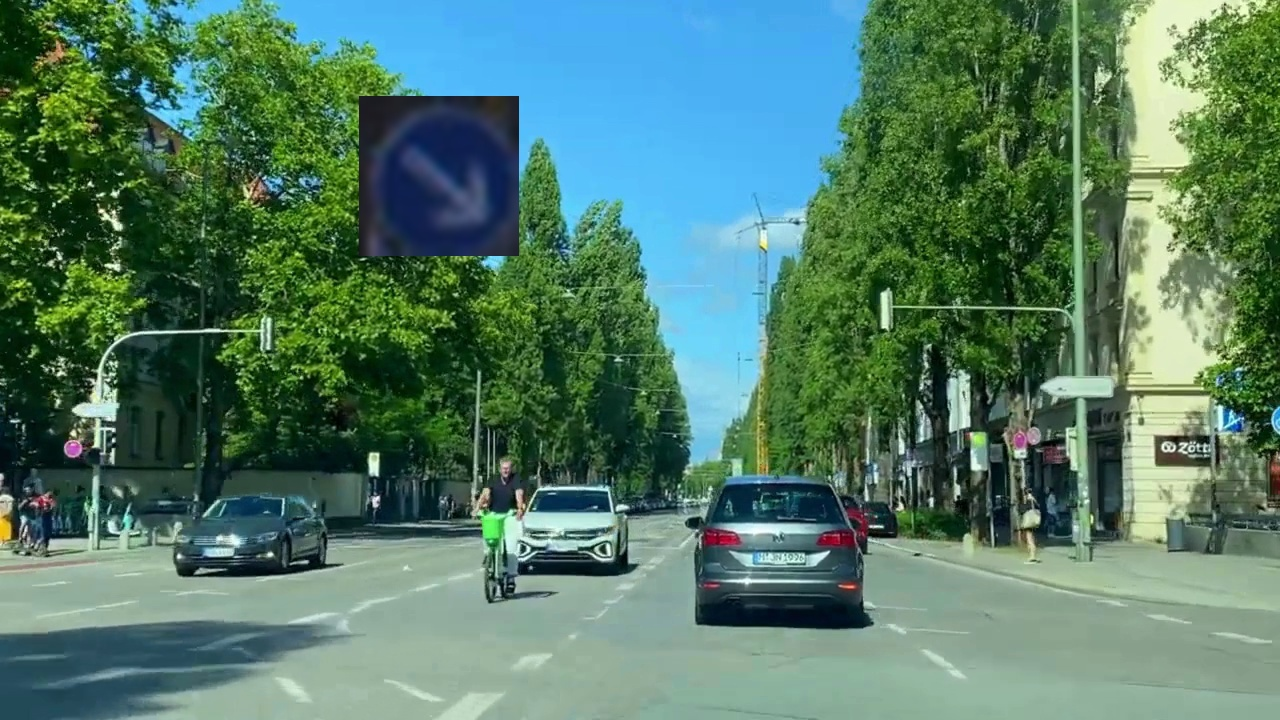Keep right: (359, 96, 519, 256)
